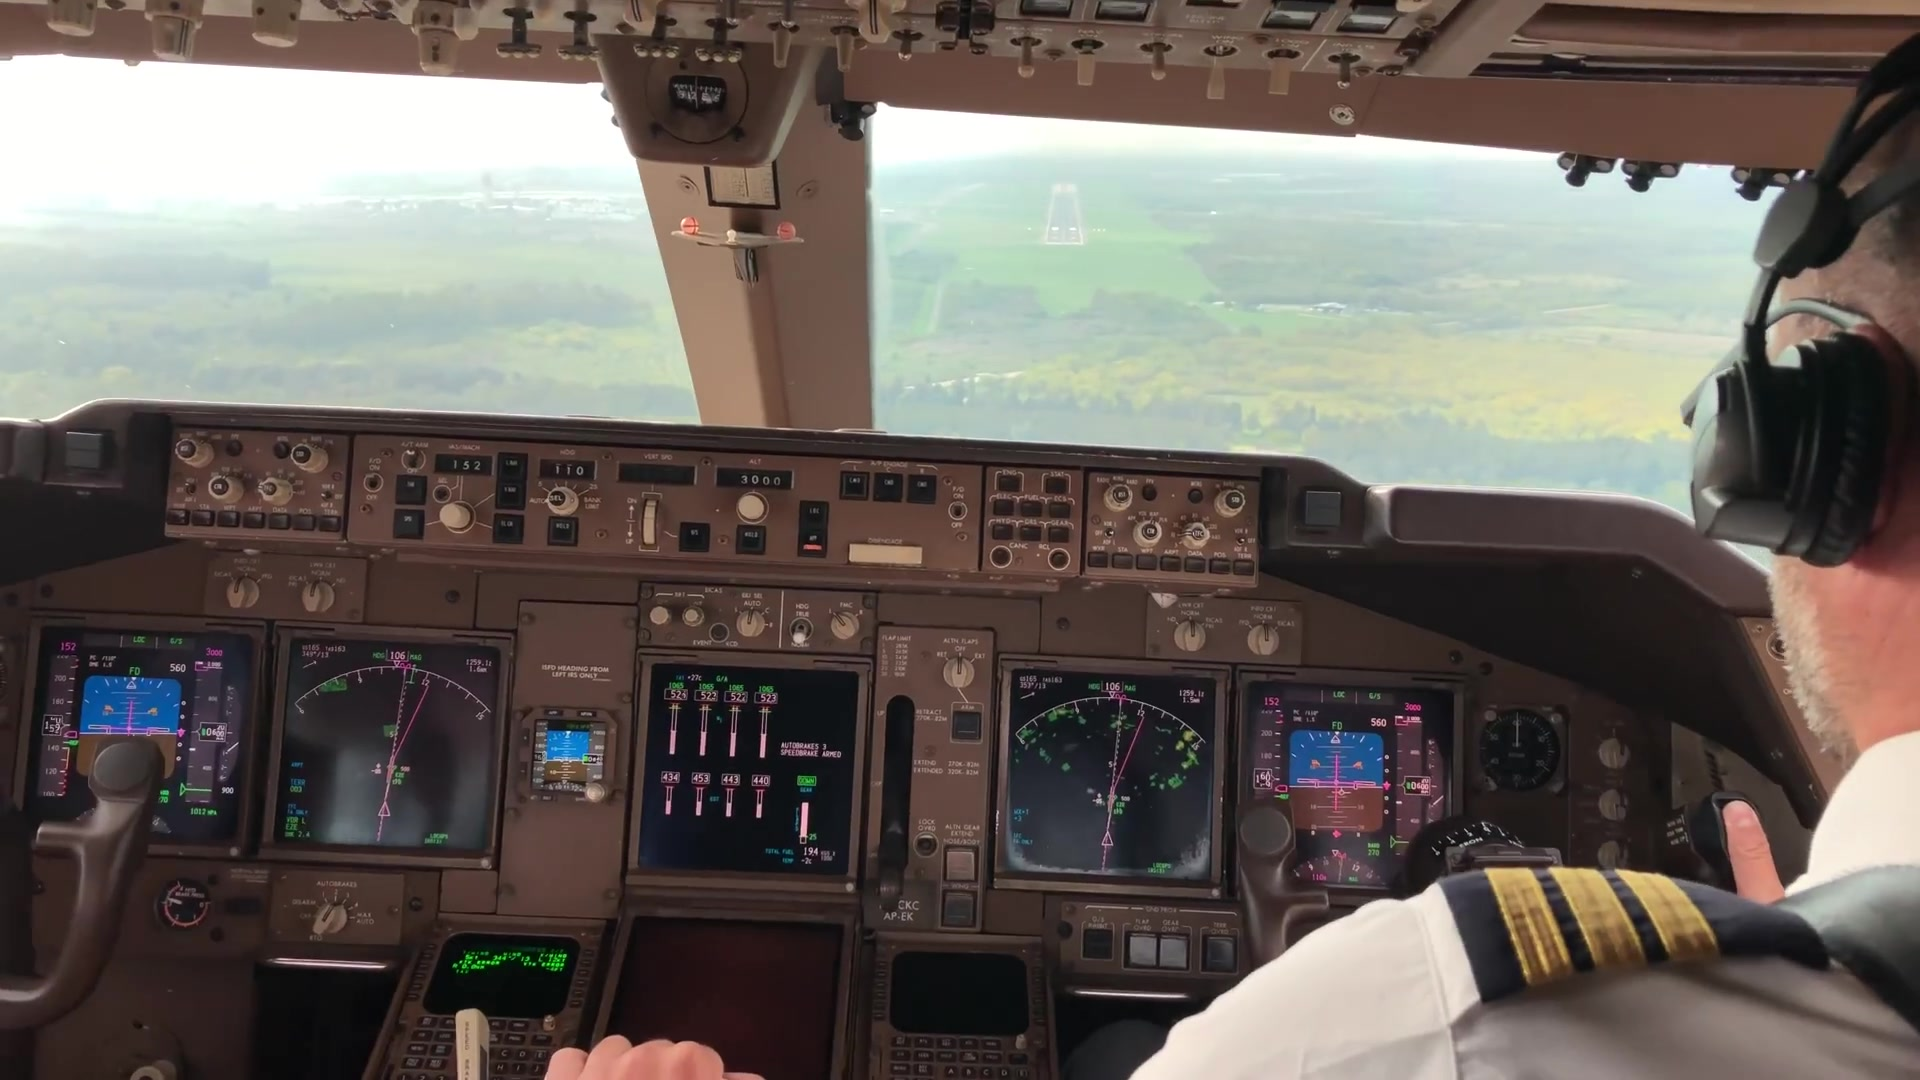runway: (1040, 182, 1083, 247)
